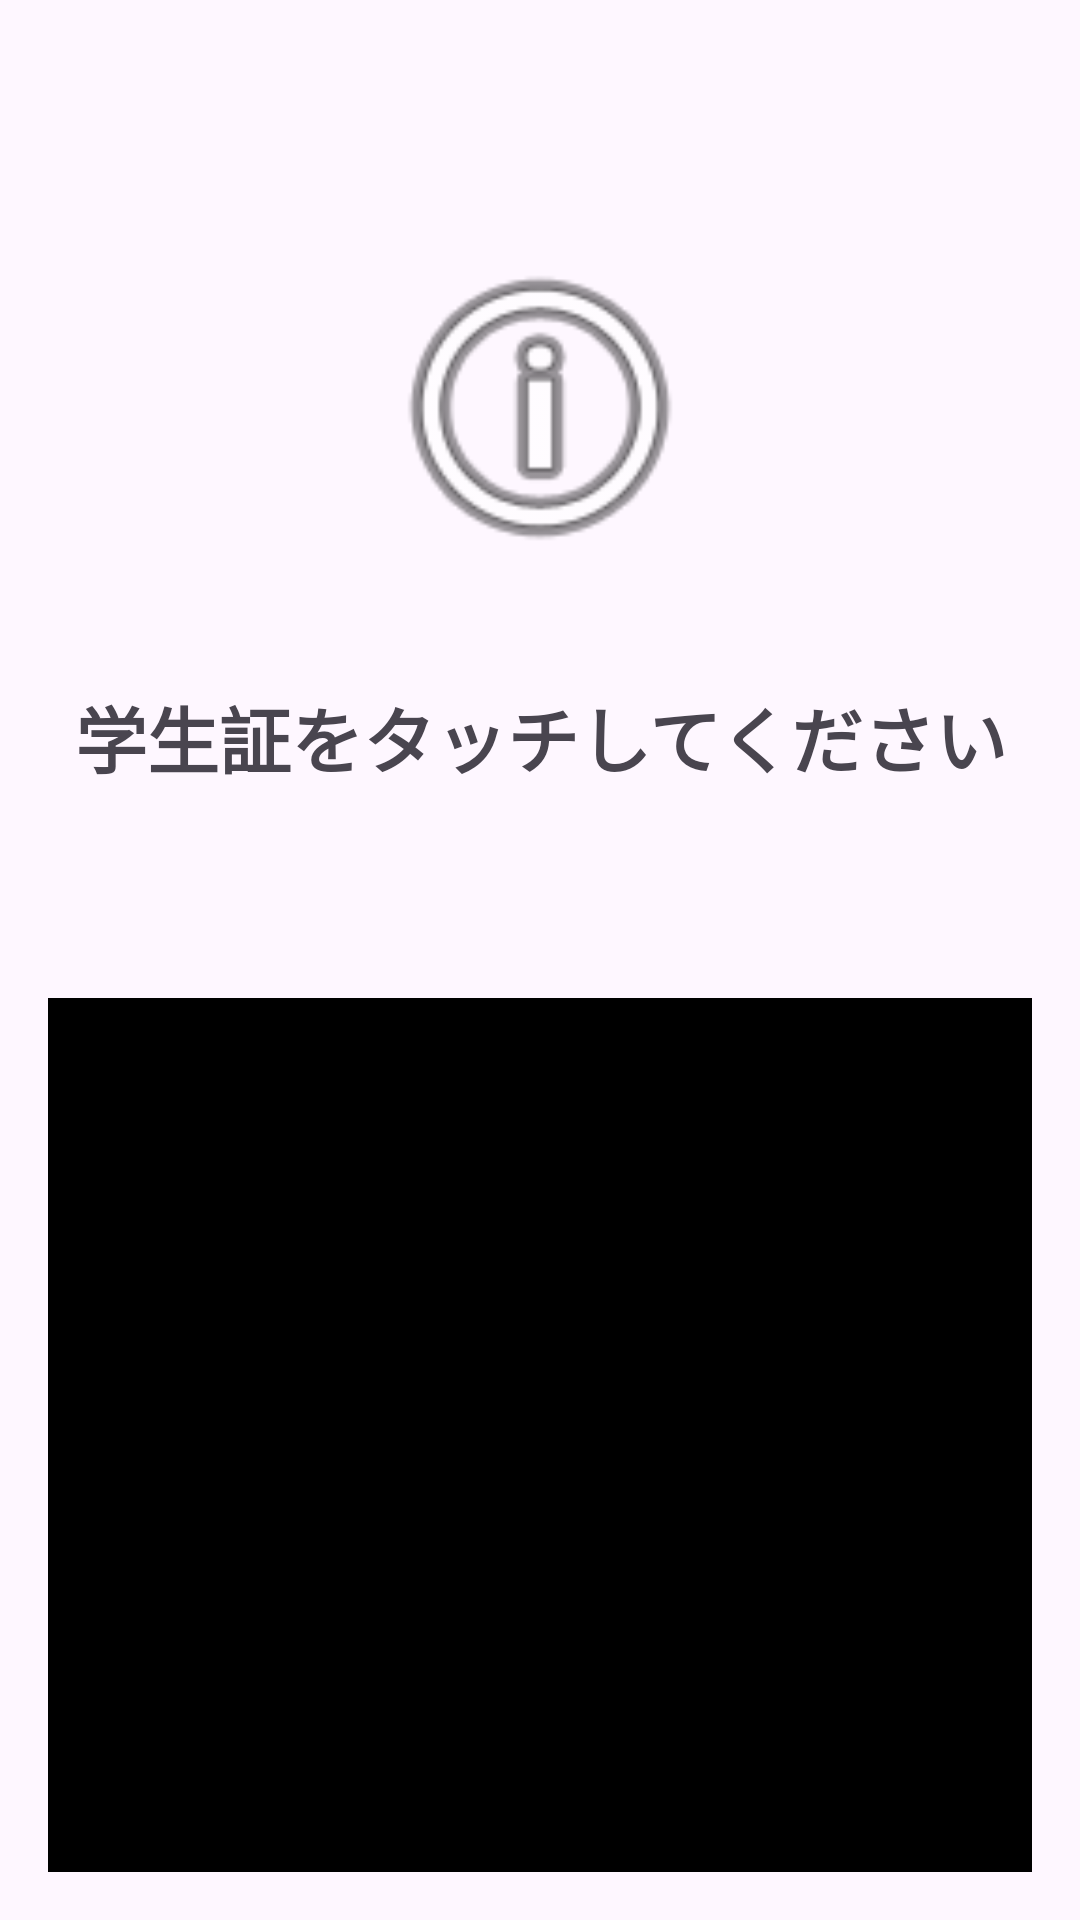

Icon click points for this 1080px×1920px phone screenshot, format (x=x, y=y):
info details: (x=540, y=408)
